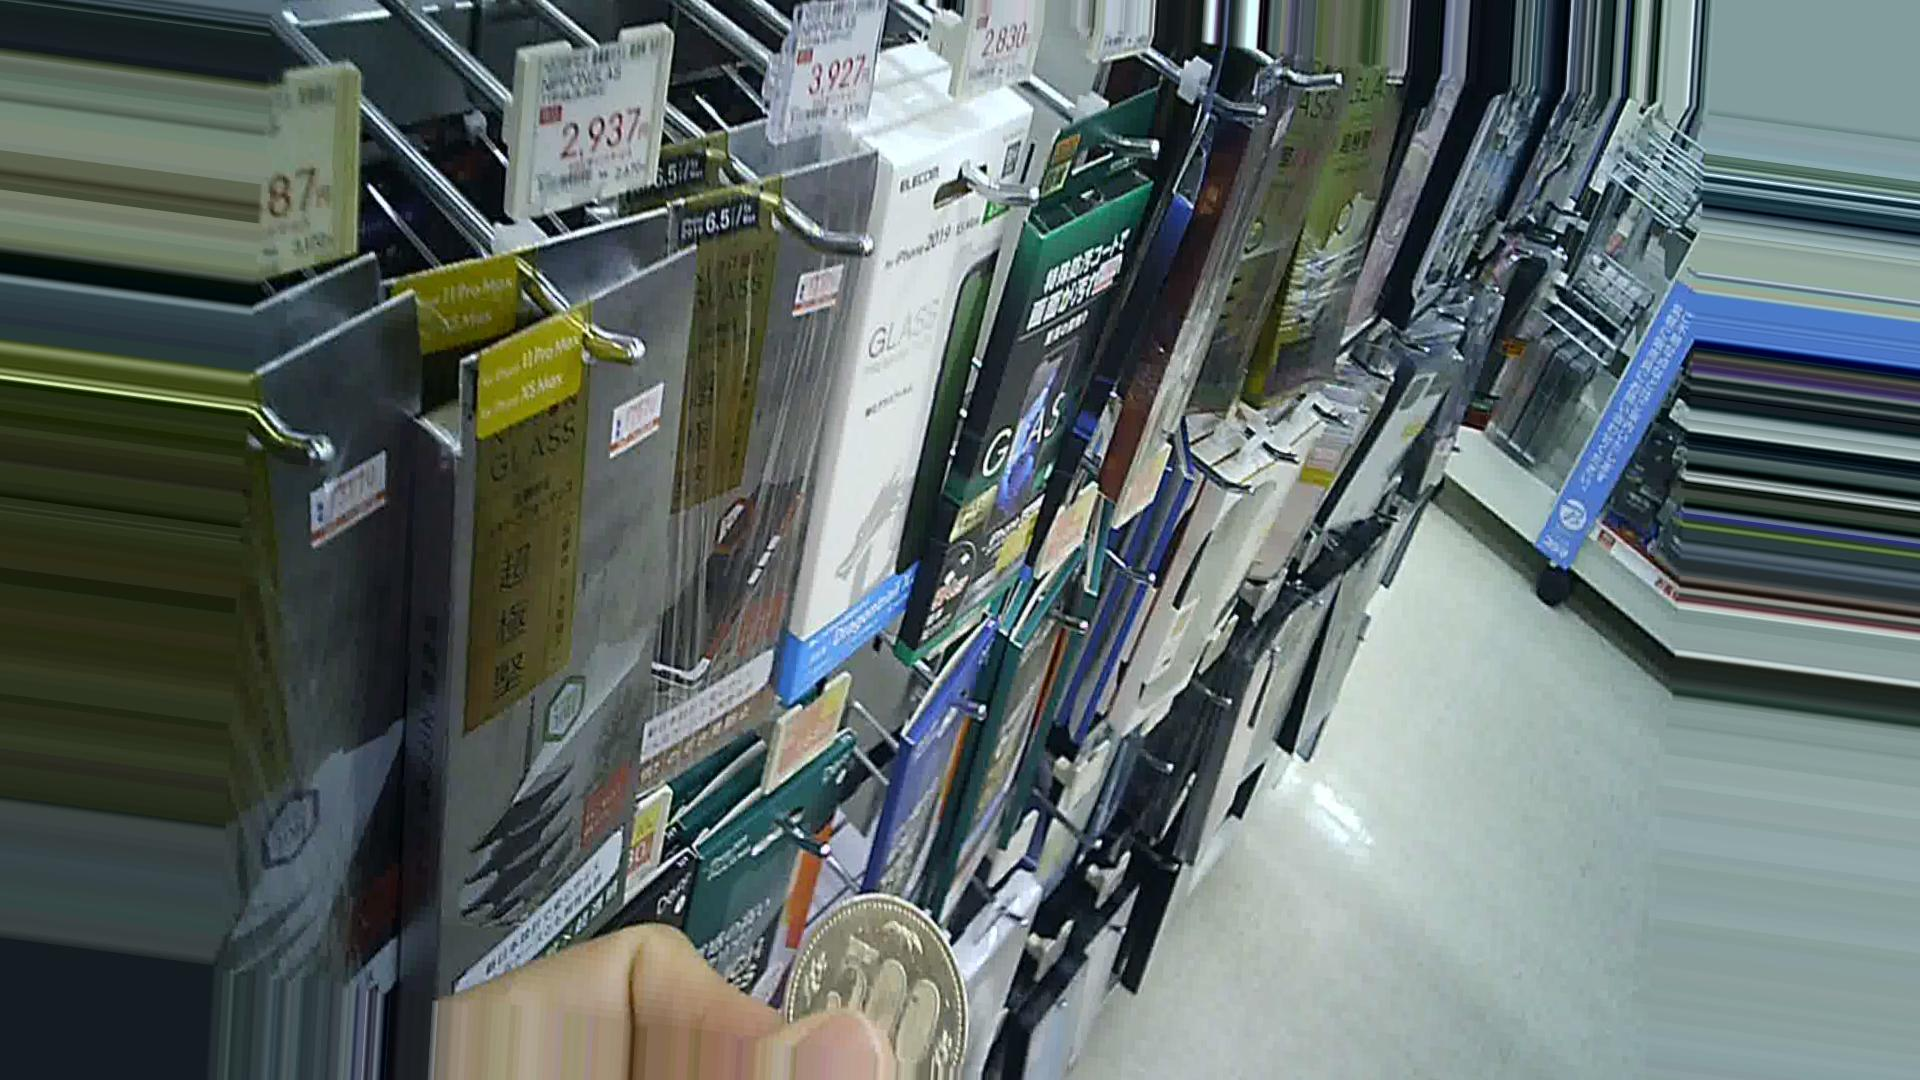500 Yen: (757, 887, 975, 1079)
